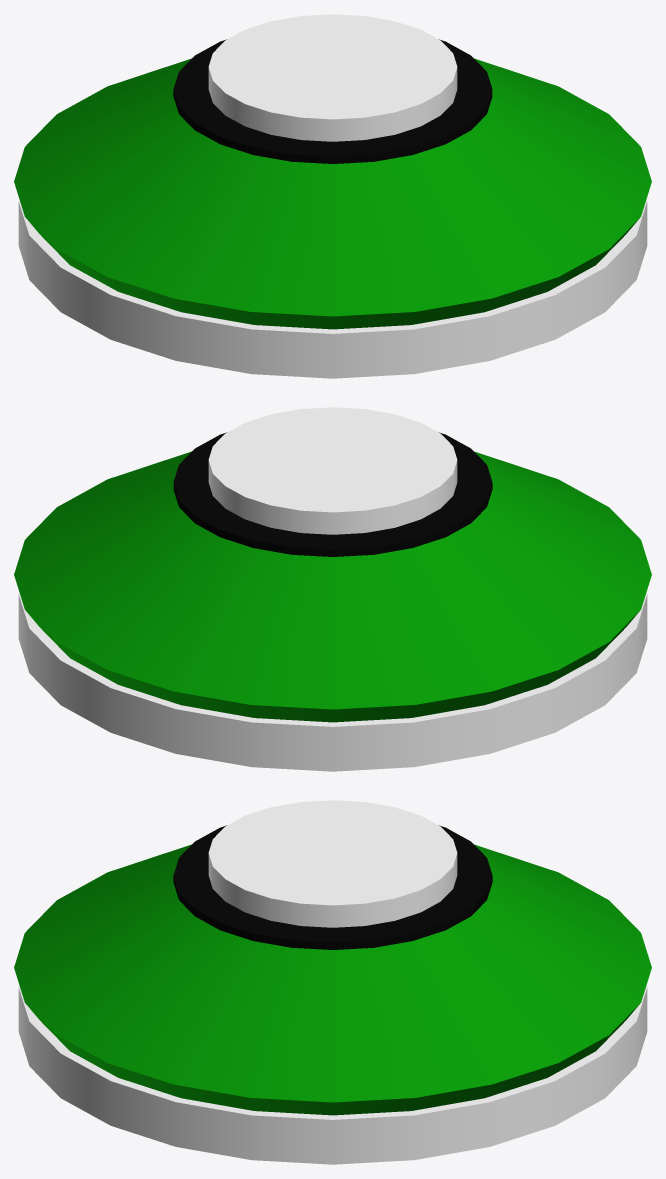
The model's file is fret_hopo.dae.
3 renders of one model, top to bottom at view 1: azimuth 30°, elevation 25°; view 2: azimuth 150°, elevation 25°; view 3: azimuth 270°, elevation 25°, orthographic.
Visible parts, largest first — view 1: SketchUp (×4); view 2: SketchUp (×4); view 3: SketchUp (×4).
Boxes of the visible parts, box(x1,y1,x2,y2) form: SketchUp (×4): box(14, 14, 651, 378); SketchUp (×4): box(14, 407, 651, 771); SketchUp (×4): box(14, 800, 651, 1164).
Size of the model in its own units: 24.23 by 24.23 by 7.5.
